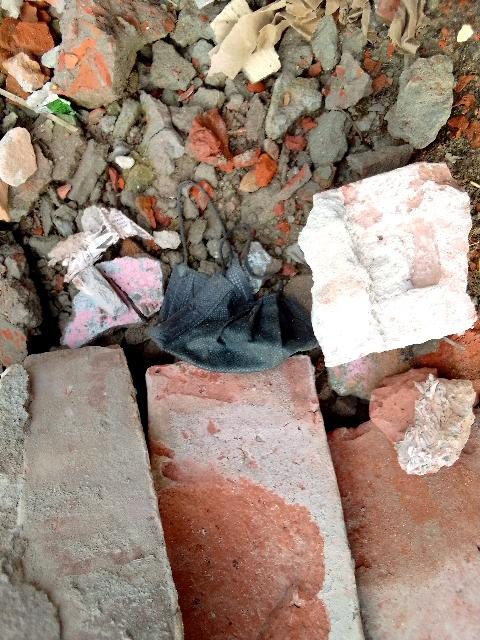mask: (139, 254, 294, 385)
